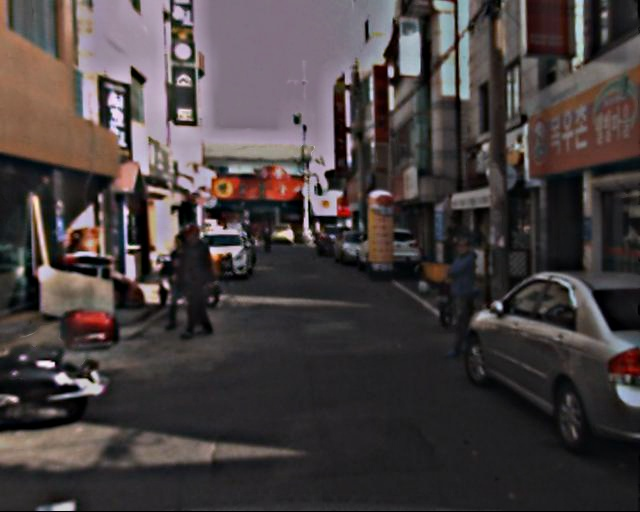person: (170, 227, 225, 337), (442, 241, 491, 360), (162, 236, 209, 331), (260, 217, 279, 254)
